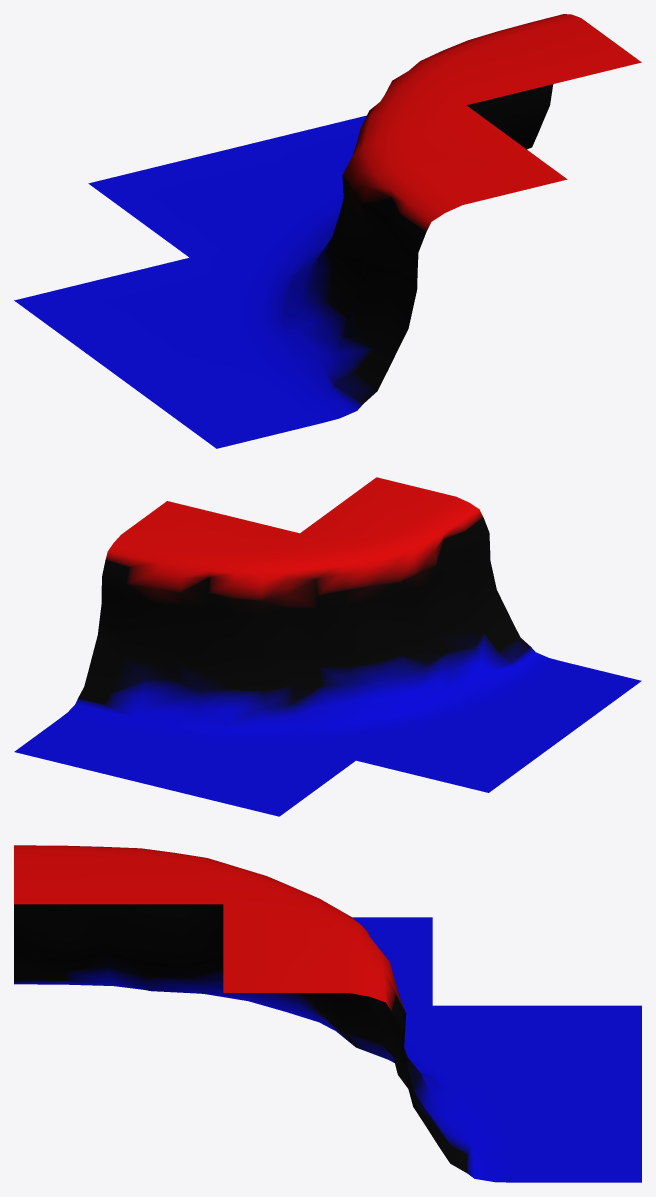
The model's file is RiveCliff04A Background.fbx.
The picture shows the model from 3 angles, top to bottom: view 1: azimuth 30°, elevation 25°; view 2: azimuth 150°, elevation 25°; view 3: azimuth 270°, elevation 25°; orthographic projection. The views are drawn at different scales.
Visible parts, largest first — view 1: RiveCliff04A Background; view 2: RiveCliff04A Background; view 3: RiveCliff04A Background.
Boxes of the visible parts, left/top/right/bottom form: RiveCliff04A Background: left=14, top=14, right=641, bottom=448; RiveCliff04A Background: left=14, top=477, right=641, bottom=816; RiveCliff04A Background: left=14, top=845, right=641, bottom=1182.
Size of the model in its own units: 3 by 1 by 3.
